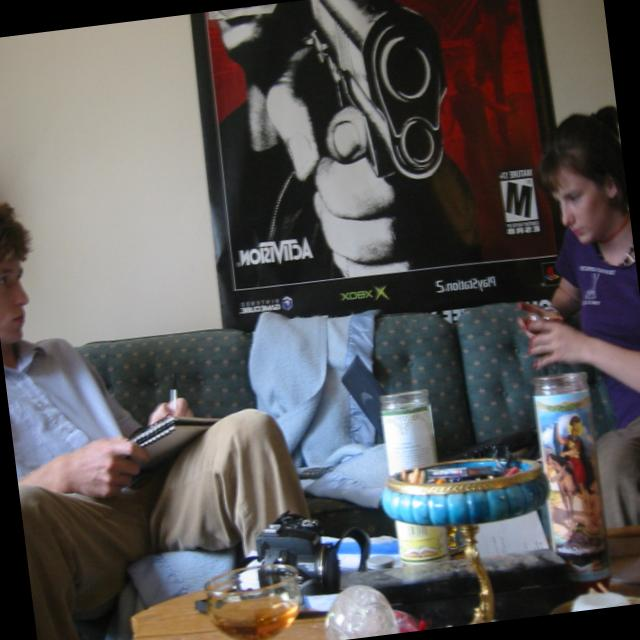Toy: (400, 447, 522, 490), (395, 606, 427, 632)
